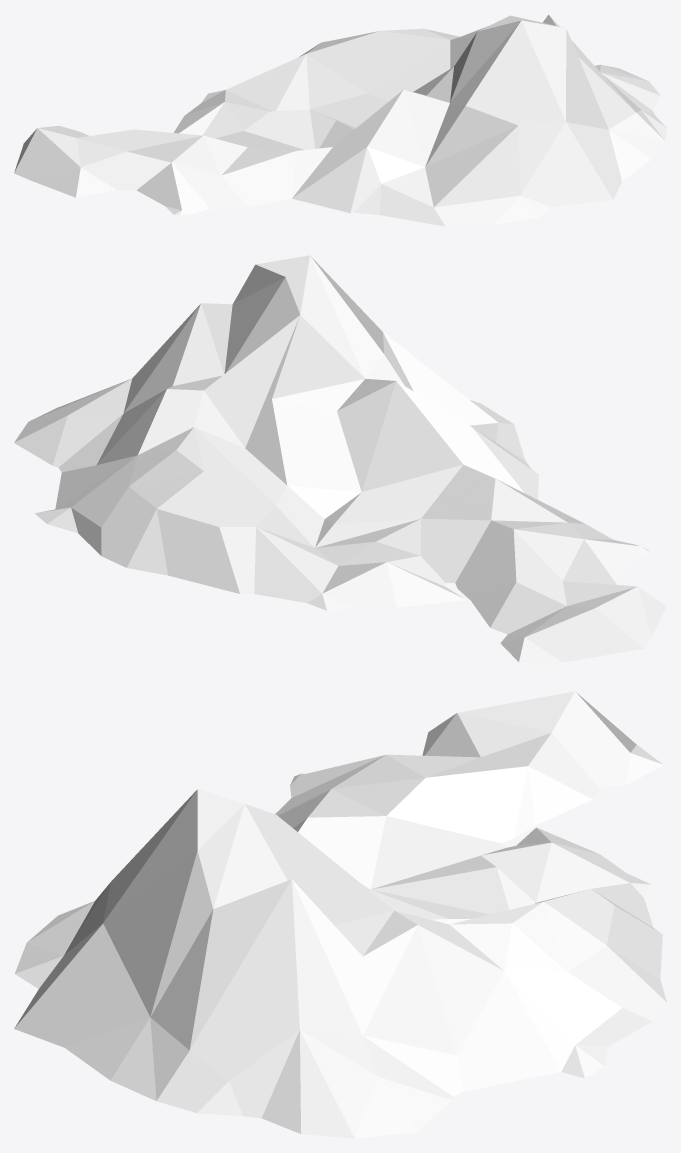
File: Mountain01.fbx
The picture shows the model from 3 angles, top to bottom: view 1: azimuth 30°, elevation 25°; view 2: azimuth 150°, elevation 25°; view 3: azimuth 270°, elevation 25°; orthographic projection. The views are drawn at different scales.
Visible parts, largest first — view 1: Mountain01; view 2: Mountain01; view 3: Mountain01.
Boxes of the visible parts, bbox=[...] form: Mountain01: bbox=[14, 14, 666, 226]; Mountain01: bbox=[14, 255, 666, 662]; Mountain01: bbox=[14, 691, 666, 1138].
Size of the model in its own units: 7865 by 1881 by 5139.
1 material, 1 textured.
